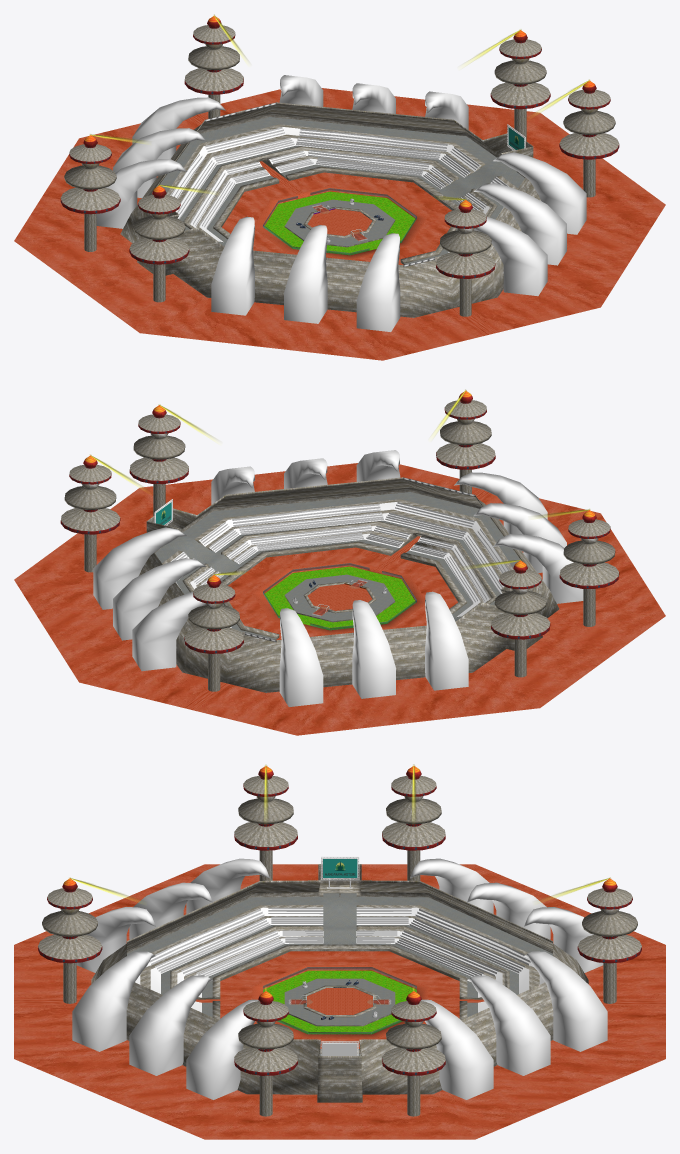
File: xr-4r3n4_track.glb
3 views of the same model, one above another, from view 1: azimuth 30°, elevation 25°; view 2: azimuth 150°, elevation 25°; view 3: azimuth 270°, elevation 25° (orthographic). The views are drawn at different scales.
Visible parts, largest first — view 1: sandred.jpg__, basic-wall.jpg__, stk_darkGrayMetal_a.png__, metal_ground.jpg__, stkcrowd_lowPoly_b.png__, stk_corrugMetal_a.png__, columnred.png__, acid_lake.jpg__, light.png__, glassWindows.png__; view 2: sandred.jpg__, basic-wall.jpg__, stk_darkGrayMetal_a.png__, metal_ground.jpg__, stkcrowd_lowPoly_b.png__, stk_corrugMetal_a.png__, columnred.png__, acid_lake.jpg__, light.png__, glassWindows.png__; view 3: sandred.jpg__, basic-wall.jpg__, stk_darkGrayMetal_a.png__, metal_ground.jpg__, stkcrowd_lowPoly_b.png__, stk_corrugMetal_a.png__, columnred.png__, acid_lake.jpg__, stk_greyMetal_a.png__, light.png__, glassWindows.png__, stkflag_mandaravaMotors_a.jpg__.
Part boxes in pixels (left/top/right/bottom): sandred.jpg__: left=14, top=88, right=665, bottom=360; basic-wall.jpg__: left=60, top=25, right=619, bottom=317; stk_darkGrayMetal_a.png__: left=96, top=75, right=586, bottom=331; metal_ground.jpg__: left=159, top=117, right=524, bottom=264; stkcrowd_lowPoly_b.png__: left=171, top=127, right=507, bottom=228; stk_corrugMetal_a.png__: left=170, top=127, right=509, bottom=252; columnred.png__: left=60, top=16, right=619, bottom=278; acid_lake.jpg__: left=264, top=191, right=415, bottom=255; light.png__: left=89, top=14, right=590, bottom=200; glassWindows.png__: left=263, top=188, right=416, bottom=255; sandred.jpg__: left=14, top=463, right=665, bottom=735; basic-wall.jpg__: left=61, top=400, right=618, bottom=692; stk_darkGrayMetal_a.png__: left=93, top=450, right=583, bottom=706; metal_ground.jpg__: left=155, top=492, right=520, bottom=639; stkcrowd_lowPoly_b.png__: left=172, top=502, right=508, bottom=603; stk_corrugMetal_a.png__: left=170, top=502, right=509, bottom=627; columnred.png__: left=60, top=391, right=619, bottom=653; acid_lake.jpg__: left=264, top=566, right=415, bottom=630; light.png__: left=89, top=389, right=590, bottom=575; glassWindows.png__: left=263, top=563, right=416, bottom=630; sandred.jpg__: left=14, top=864, right=665, bottom=1139; basic-wall.jpg__: left=38, top=775, right=641, bottom=1116; stk_darkGrayMetal_a.png__: left=72, top=858, right=607, bottom=1099; metal_ground.jpg__: left=127, top=893, right=552, bottom=1055; stkcrowd_lowPoly_b.png__: left=149, top=907, right=530, bottom=976; stk_corrugMetal_a.png__: left=135, top=907, right=544, bottom=1012; columnred.png__: left=38, top=766, right=641, bottom=1075; acid_lake.jpg__: left=263, top=970, right=416, bottom=1034; stk_greyMetal_a.png__: left=320, top=856, right=359, bottom=1055; light.png__: left=70, top=764, right=610, bottom=990; glassWindows.png__: left=263, top=967, right=416, bottom=1034; stkflag_mandaravaMotors_a.jpg__: left=323, top=859, right=357, bottom=877.
Size of the model in its own units: 1273 by 282 by 1273.
26 materials, 21 textured.
